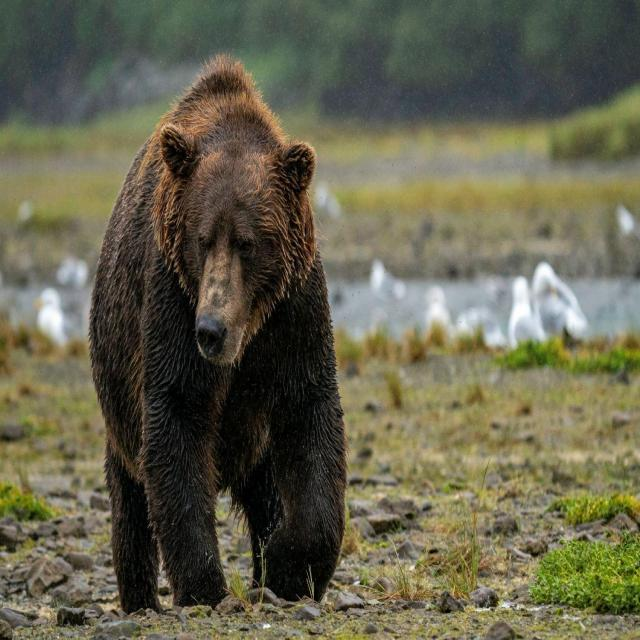Bear: (87, 55, 349, 616)
